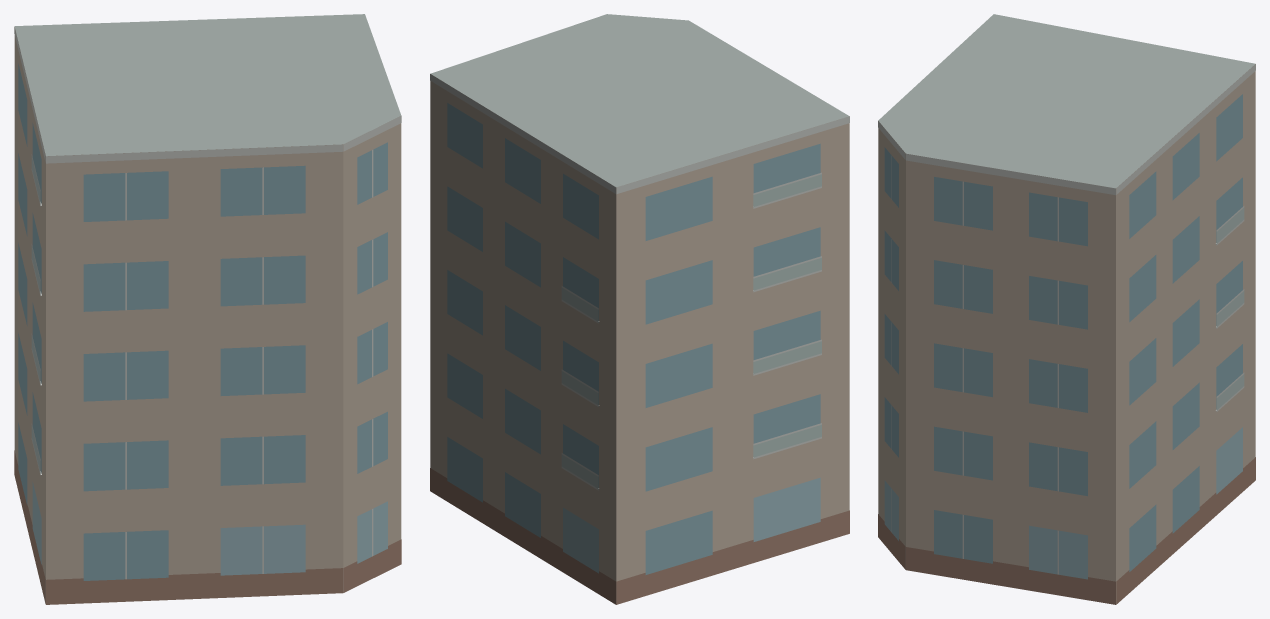
The model's file is survey-upis-32868931.glb.
3 renders of one model, left to right at view 1: azimuth 30°, elevation 25°; view 2: azimuth 150°, elevation 25°; view 3: azimuth 270°, elevation 25°, orthographic. The views are drawn at different scales.
Parts seen in each view (by area): view 1: survey-upis-32868931.tmp; view 2: survey-upis-32868931.tmp; view 3: survey-upis-32868931.tmp.
Boxes of the visible parts, x1,y1,x2,y2 form: survey-upis-32868931.tmp: (14, 14, 401, 604); survey-upis-32868931.tmp: (430, 14, 849, 604); survey-upis-32868931.tmp: (878, 14, 1255, 604).
Bounding box in the file's own units: 13.3 × 14.8 × 12.17.
